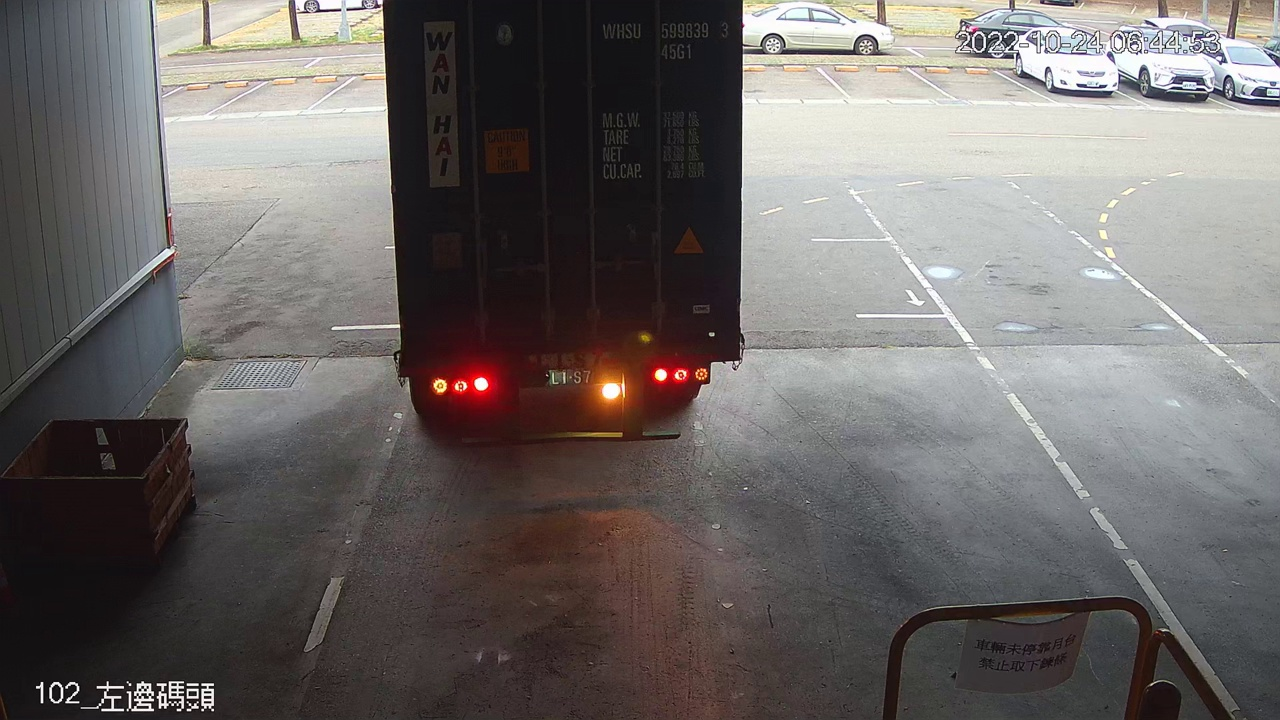container: (598, 16, 735, 67)
